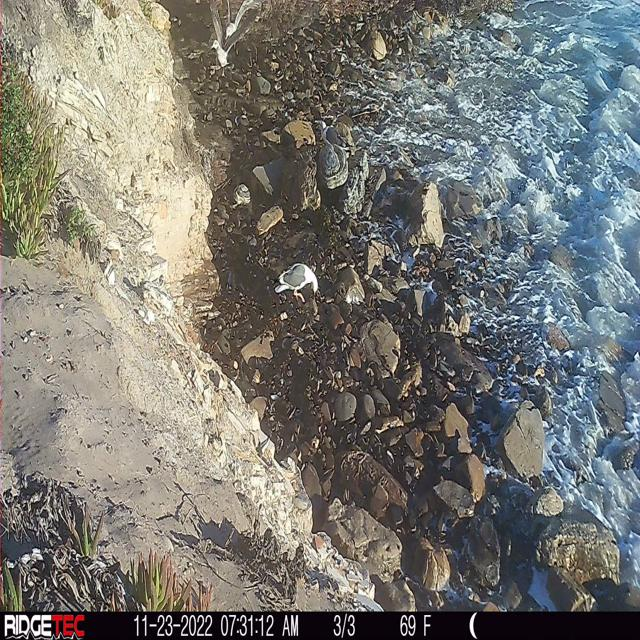bird: (267, 257, 316, 312)
